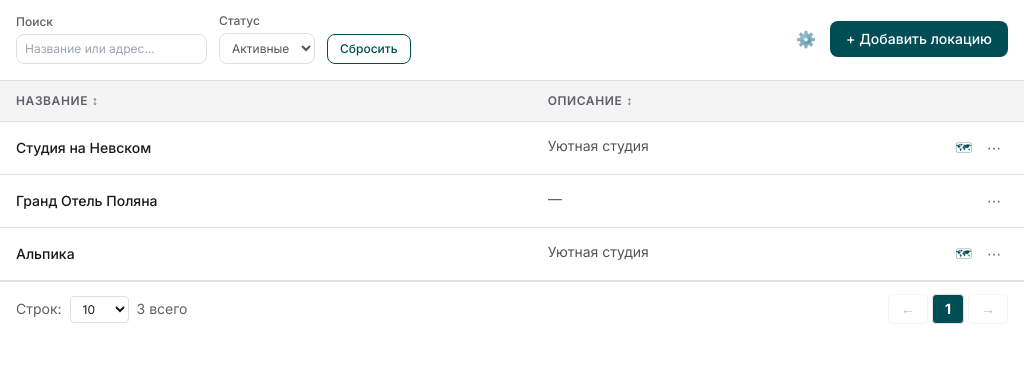
Test case: LocationsTable › toggles column visibility via ColumnPicker
This screenshot has width=1024, height=375.
Expected: the text "Студия на Невском" is shown, [16,139,151,156]
Expected: the text "Гранд Отель Поляна" is shown, [16,192,158,209]
Note: Open picker
What coordinates should you click on to do the following:
click the button named "Настроить колонки"
I would click on:
 (806, 38)
Its box is [790,22,822,54].
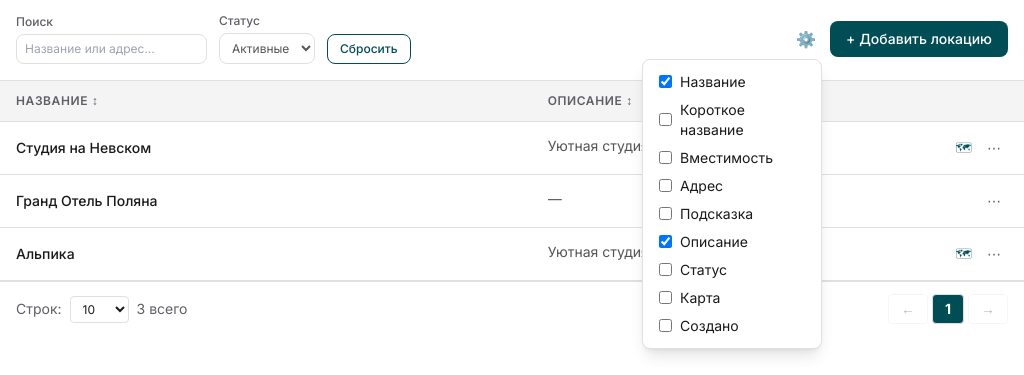
Note: Uncheck "Название" — it should disappear from table header
What coordinates should you click on to do the following:
click the checkbox labelled "Название"
I would click on:
 (666, 82)
Its box is [659,75,672,88].
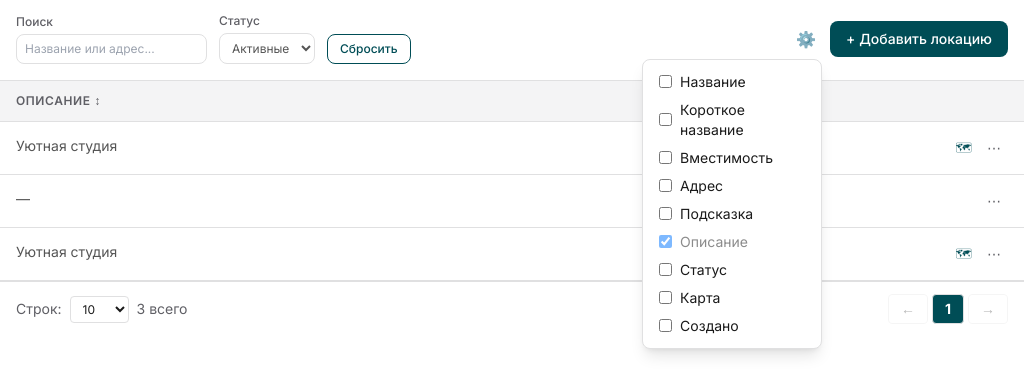
Expected: the text "Название" is not shown
Note: Re-check "Название" — it should reappear in thead
What coordinates should you click on to do the following:
click the checkbox labelled "Название"
I would click on:
 (666, 82)
Its box is [659,75,672,88].
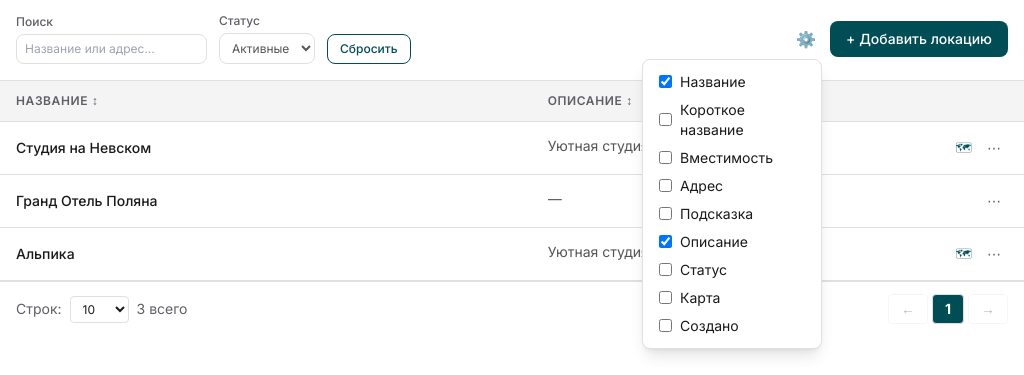
Expected: the element showing "Название ↕ Описание ↕" is shown, [0,81,1023,122]
